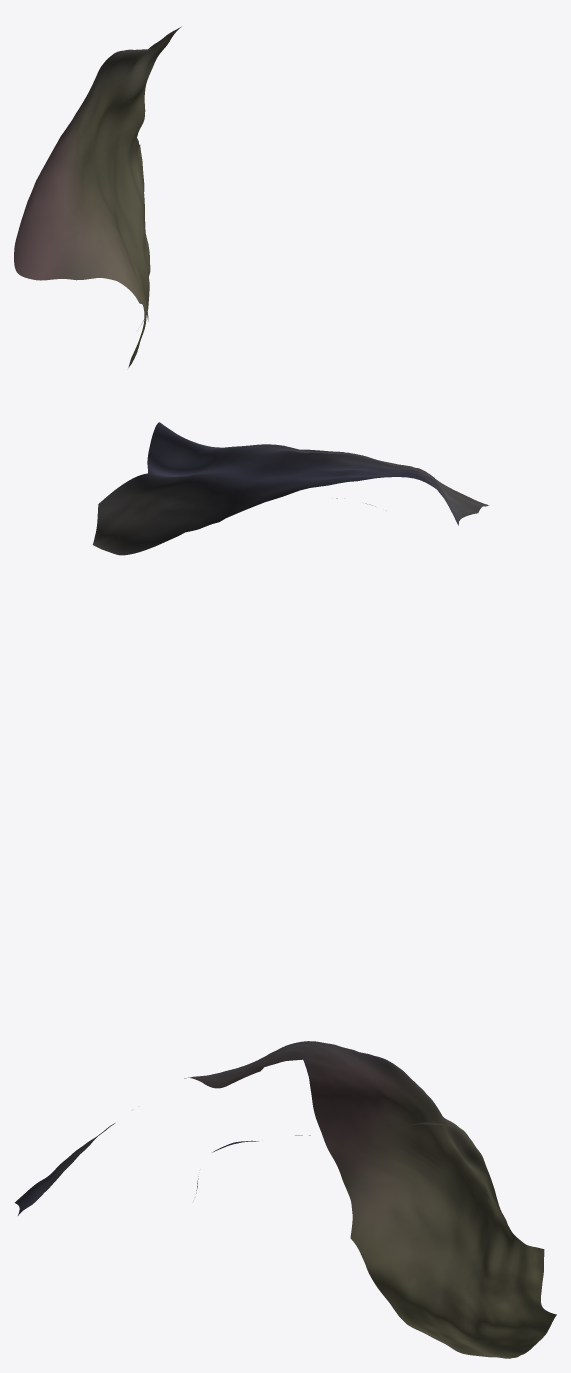
Rendered from Cloud_global_new_3.glb.
3 views of the same model, one above another, from view 1: azimuth 30°, elevation 25°; view 2: azimuth 150°, elevation 25°; view 3: azimuth 270°, elevation 25° (orthographic). The views are drawn at different scales.
Parts seen in each view (by area): view 1: LOD0; view 2: LOD0; view 3: LOD0.
Boxes of the visible parts, <box> form: LOD0: <box>14,26,181,367</box>; LOD0: <box>92,422,489,555</box>; LOD0: <box>14,1041,556,1358</box>.
Size of what is drawn, in the model's own units: 1.02 by 0.8099 by 1.33.
